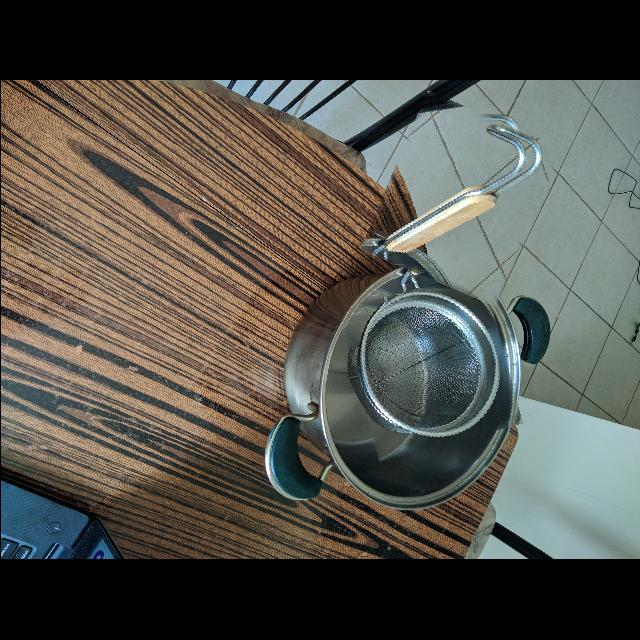Handle: (365, 116, 550, 265)
Strainer: (350, 286, 501, 442)
